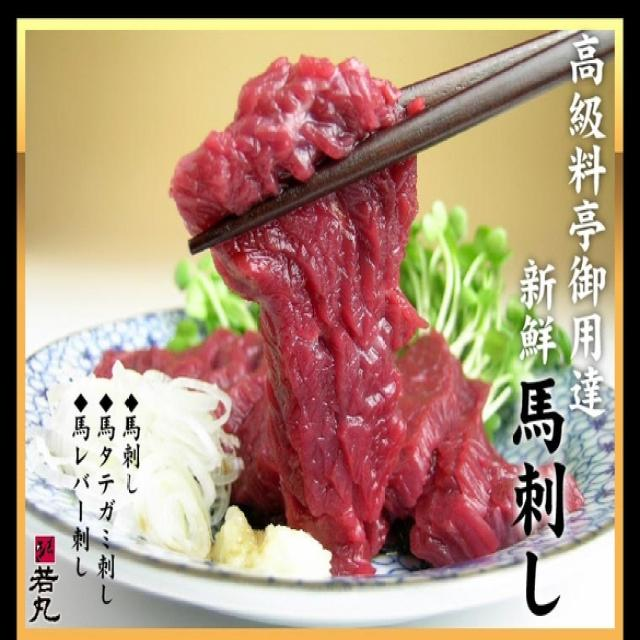刺身生食: (104, 56, 549, 580)
